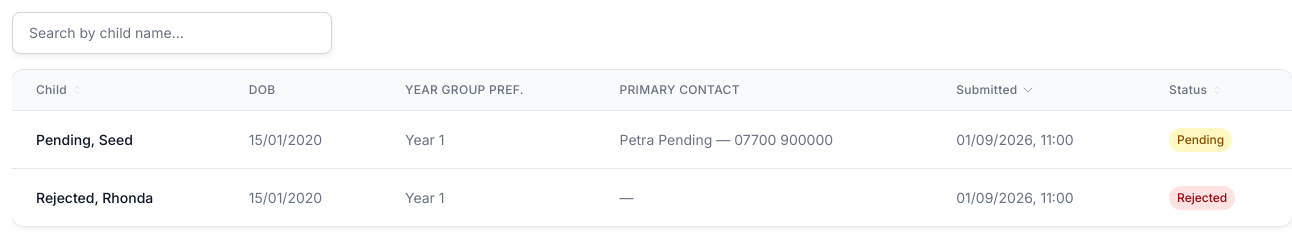
Test: RegistrationsTable › filters rows by child name search
Type "Rhonda" into the search field with placeholder "Search by child name…" at {"x": 172, "y": 33}, box top-left (12, 12), bottom-right (332, 54)
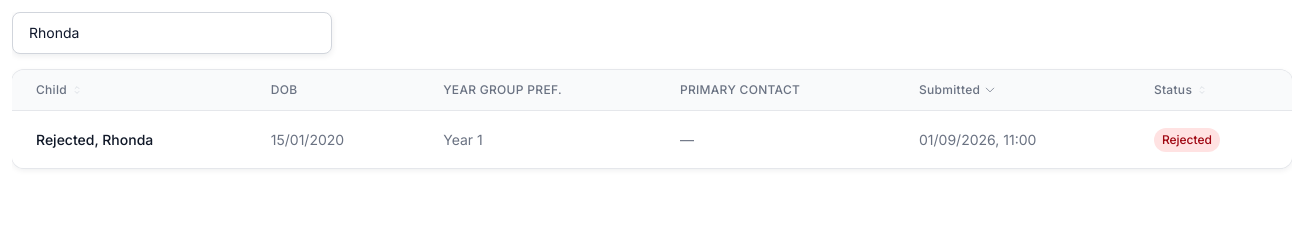
expect the link "Rejected, Rhonda" is shown: met, box top-left (36, 130), bottom-right (153, 148)
expect the link "Pending, Seed" is gone: met
